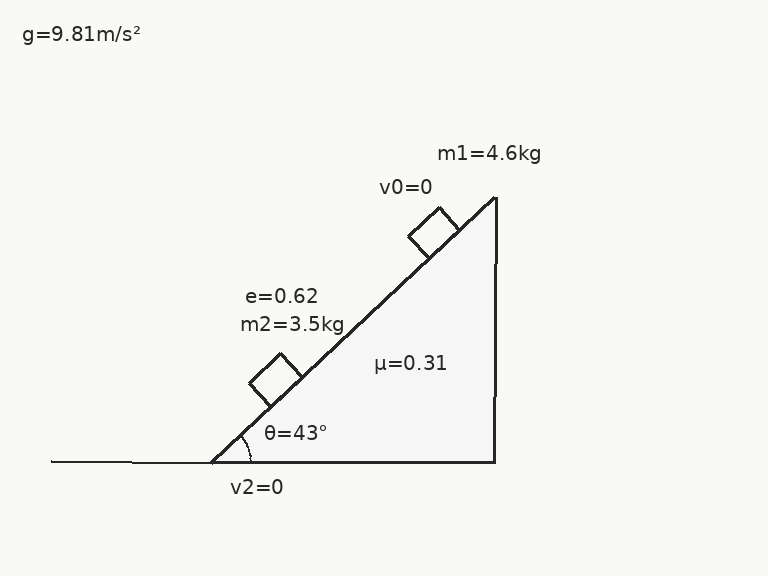block: (246, 351, 305, 409), (406, 206, 462, 261)
ramp: (209, 195, 497, 464)
